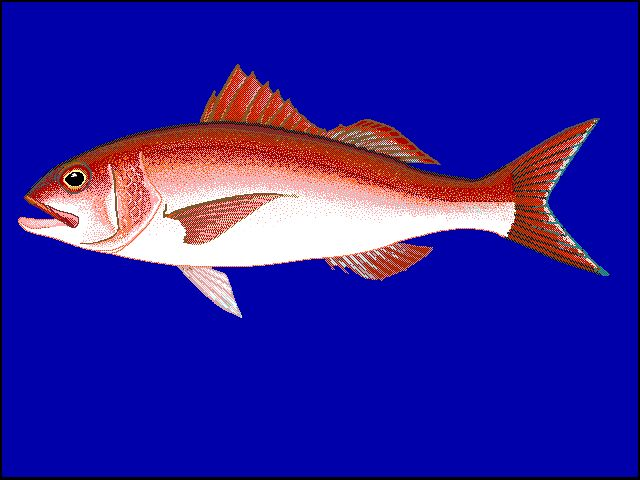fish: (17, 62, 612, 318)
